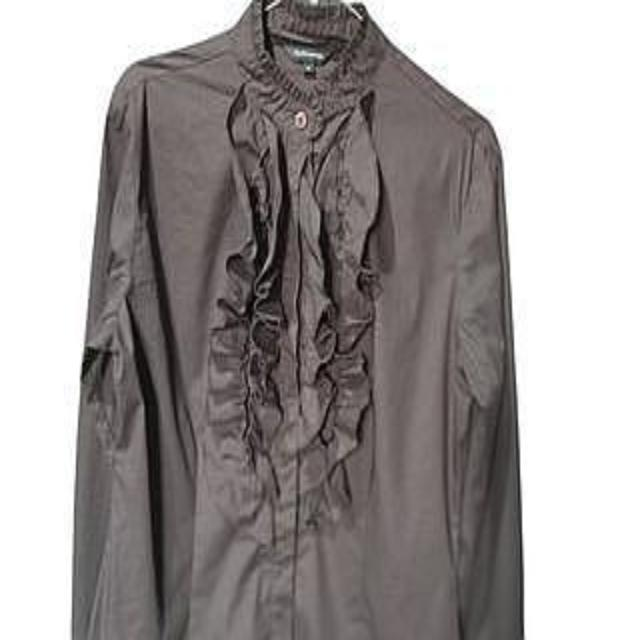SHIRT: (61, 0, 540, 640)
